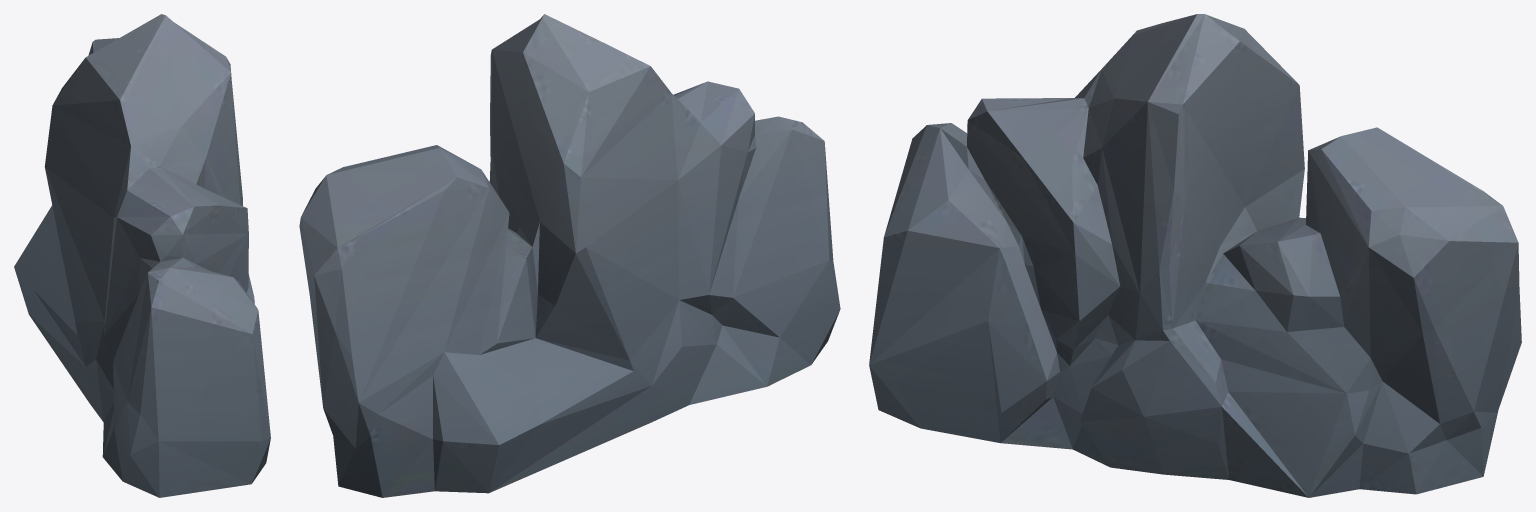
The model's file is crag.glb.
3 views of the same model, side by side, from view 1: azimuth 30°, elevation 25°; view 2: azimuth 150°, elevation 25°; view 3: azimuth 270°, elevation 25° (orthographic). The views are drawn at different scales.
Parts seen in each view (by area): view 1: crag; view 2: crag; view 3: crag.
Boxes of the visible parts, box(x1,y1,x2,y2) form: crag: box(14, 14, 270, 497); crag: box(299, 14, 840, 497); crag: box(869, 14, 1521, 497).
Bounding box in the file's own units: 4.48 × 5.4 × 7.52.
1 material, 1 textured.
